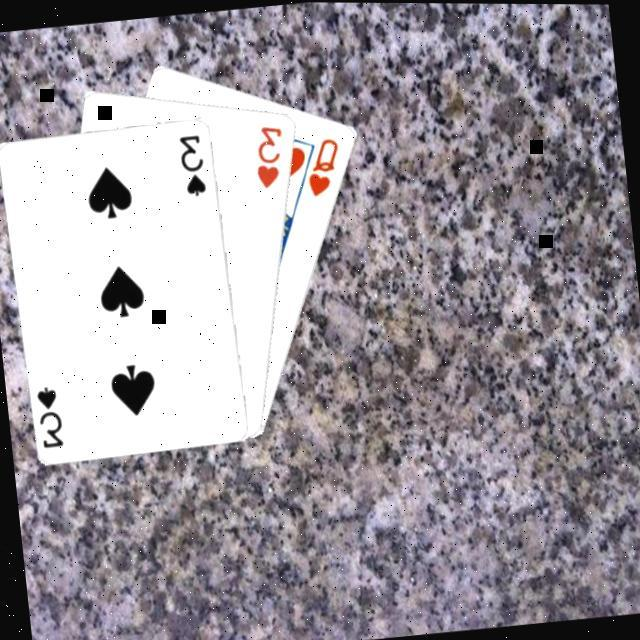3H: (250, 119, 292, 190)
3S: (176, 128, 212, 198), (34, 380, 69, 450)
QH: (302, 130, 348, 198)
